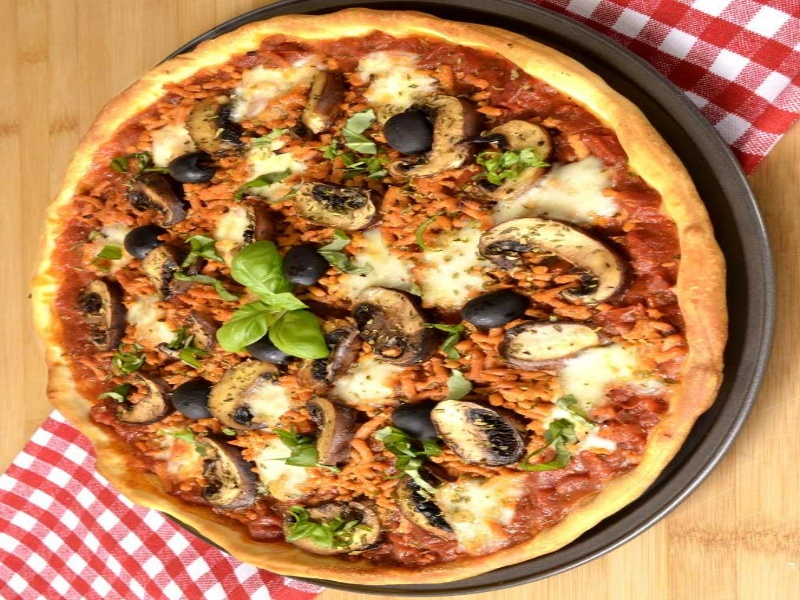champignon: (474, 213, 638, 309), (428, 390, 529, 470), (207, 354, 293, 445), (344, 284, 432, 368), (286, 178, 388, 233), (74, 277, 124, 361)
